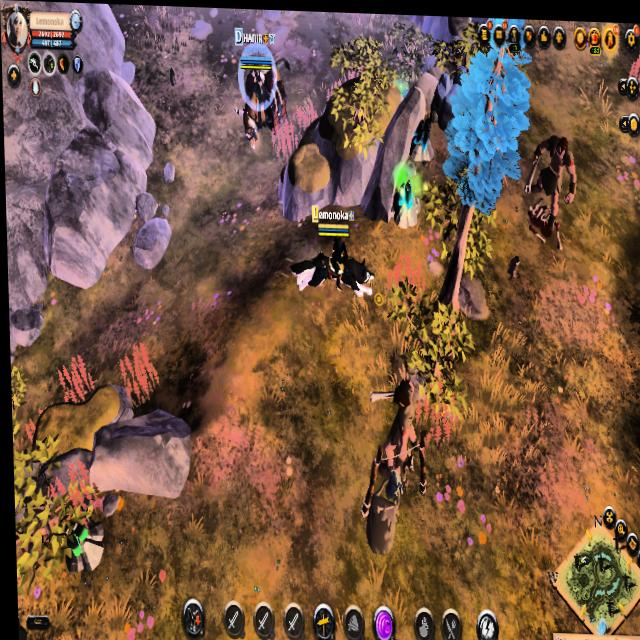ore tier 3: (57, 513, 104, 576)
ore tier 4: (388, 170, 422, 227), (408, 107, 436, 164)
wood tier 4: (442, 13, 536, 220)
